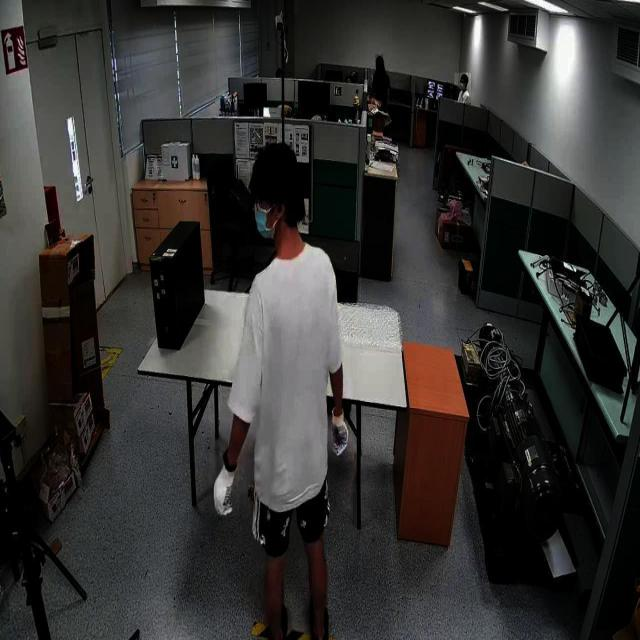face_mask: (251, 195, 281, 256)
hand_glove: (208, 452, 240, 518), (331, 404, 352, 460)
head_nohelmet: (250, 140, 298, 190), (375, 54, 383, 63), (460, 72, 468, 79)
person: (217, 137, 351, 638), (454, 73, 472, 104)
